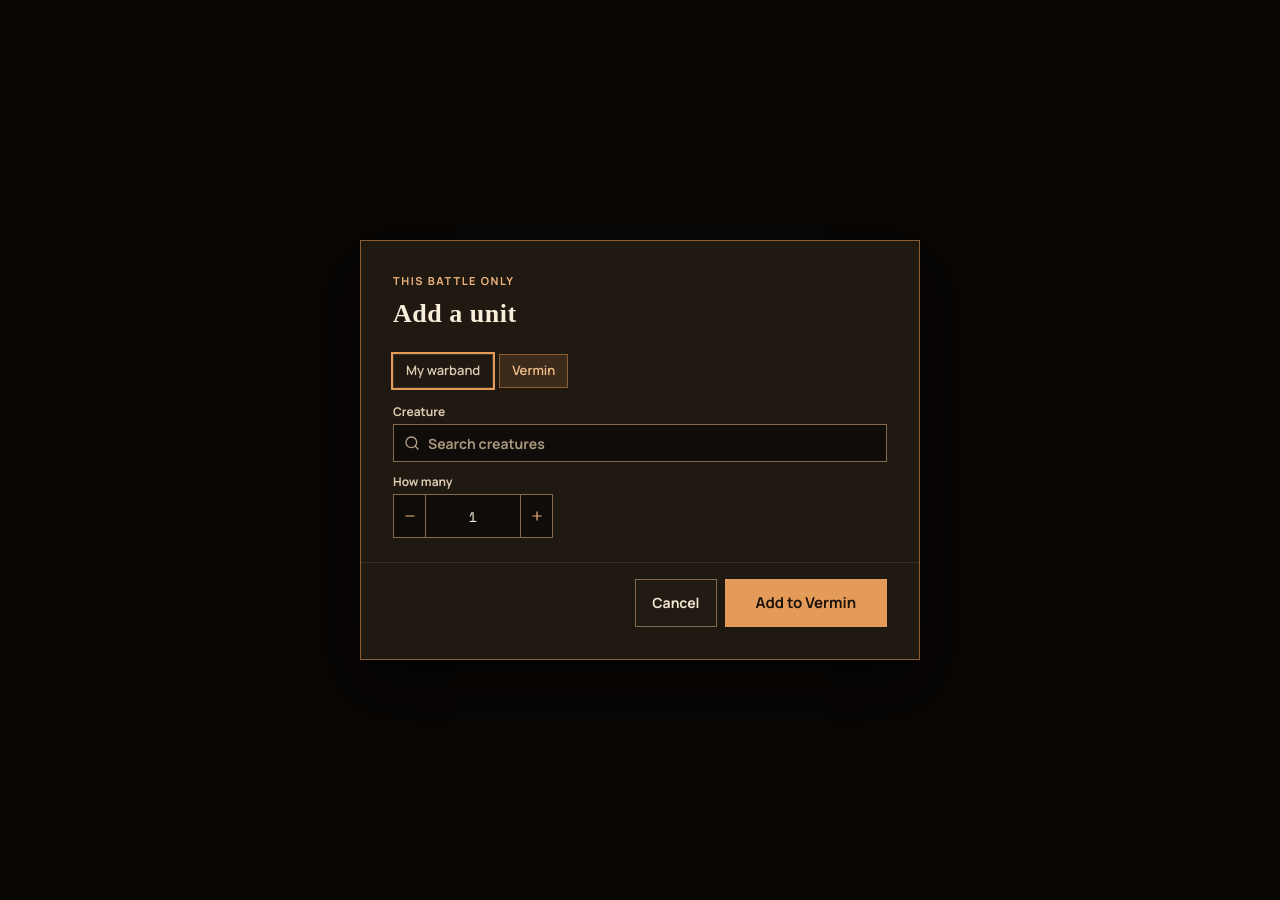
Add a unit to a creature group › asks for a creature before adding nothing
Click the button "Add to Vermin": (806, 603) [724,579,887,627]
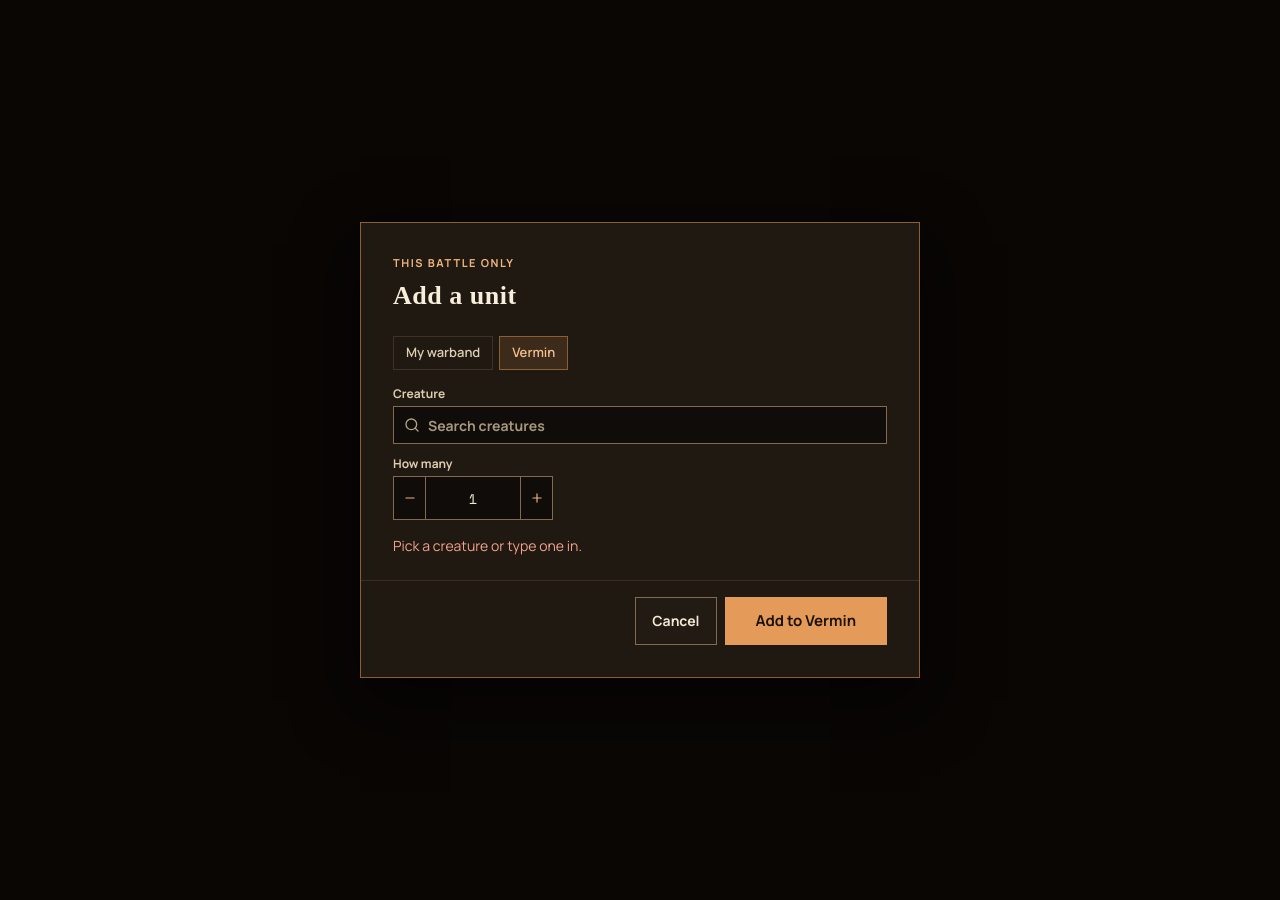
Check: the text "Pick a creature or type one in." is shown, box [393,536,582,555]
